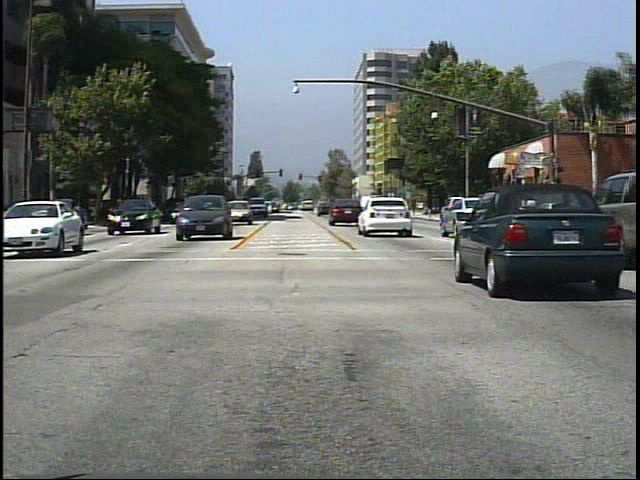person: (489, 189, 507, 224), (523, 195, 541, 229)
